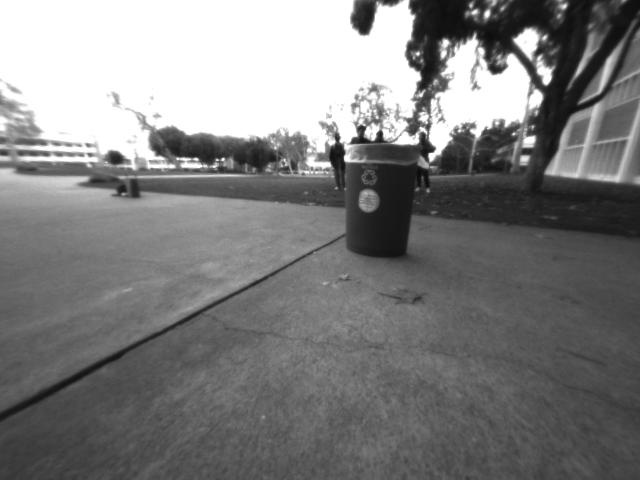trashcan_open: (343, 142, 419, 258)
